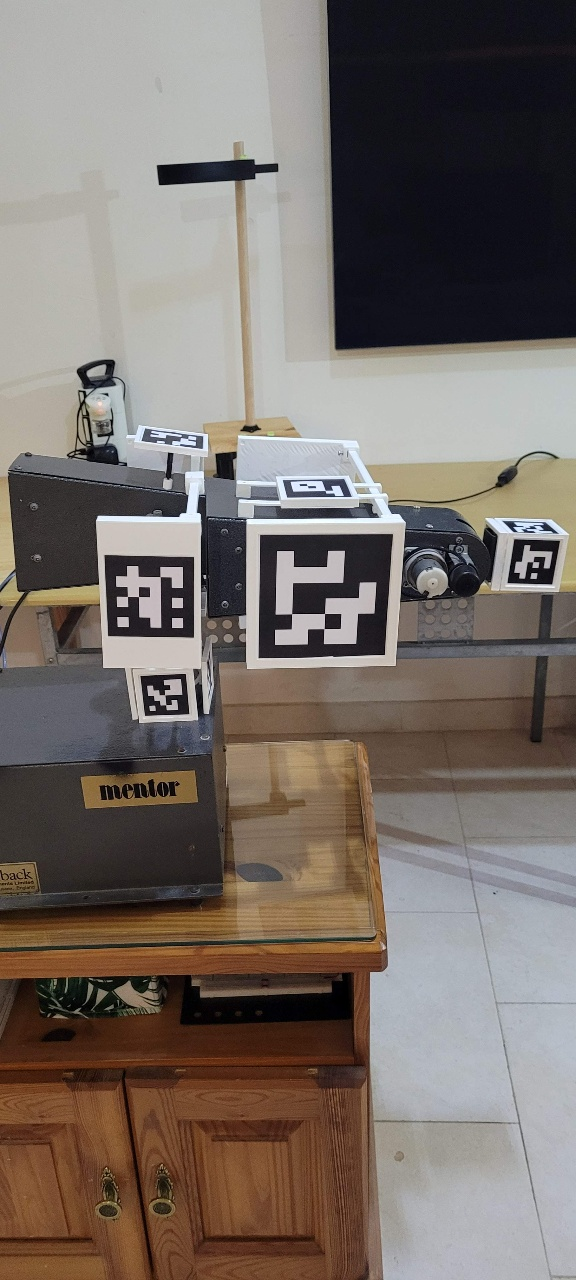Robot: (73, 325, 537, 1114)
